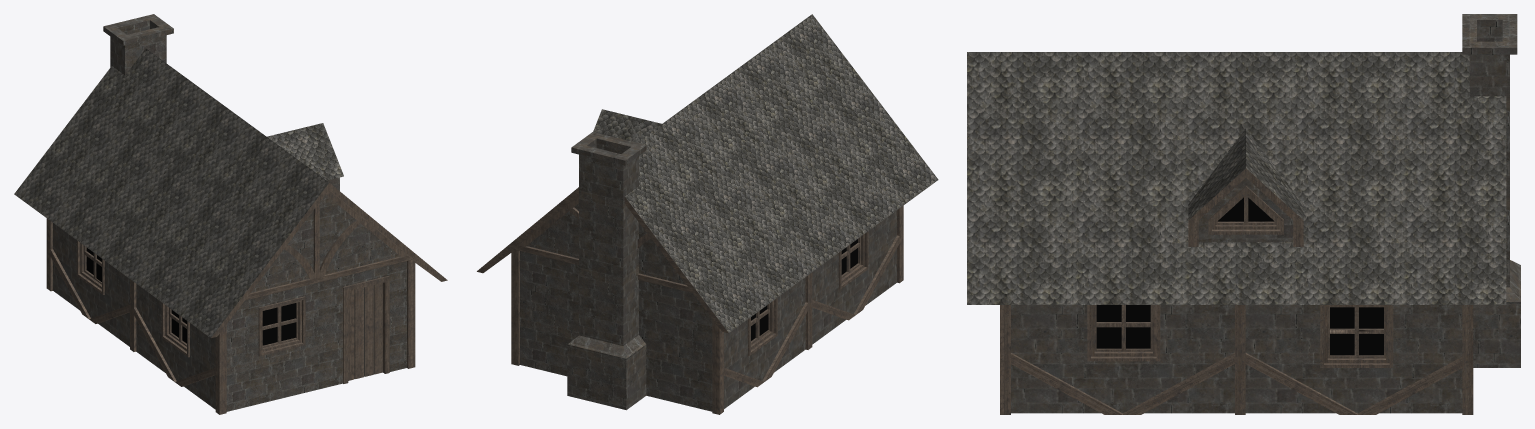
The model's file is house.obj.
The picture shows the model from 3 angles, left to right: view 1: azimuth 30°, elevation 25°; view 2: azimuth 150°, elevation 25°; view 3: azimuth 270°, elevation 25°; orthographic projection. The views are drawn at different scales.
Parts seen in each view (by area): view 1: Mesh05; view 2: Mesh05; view 3: Mesh05.
Boxes of the visible parts, left/top/right/bottom form: Mesh05: left=14, top=14, right=447, bottom=414; Mesh05: left=477, top=14, right=938, bottom=414; Mesh05: left=967, top=14, right=1520, bottom=414.
Size of the model in its own units: 13.63 by 12.78 by 20.12.
Materials: 6 (5 with a texture image).
